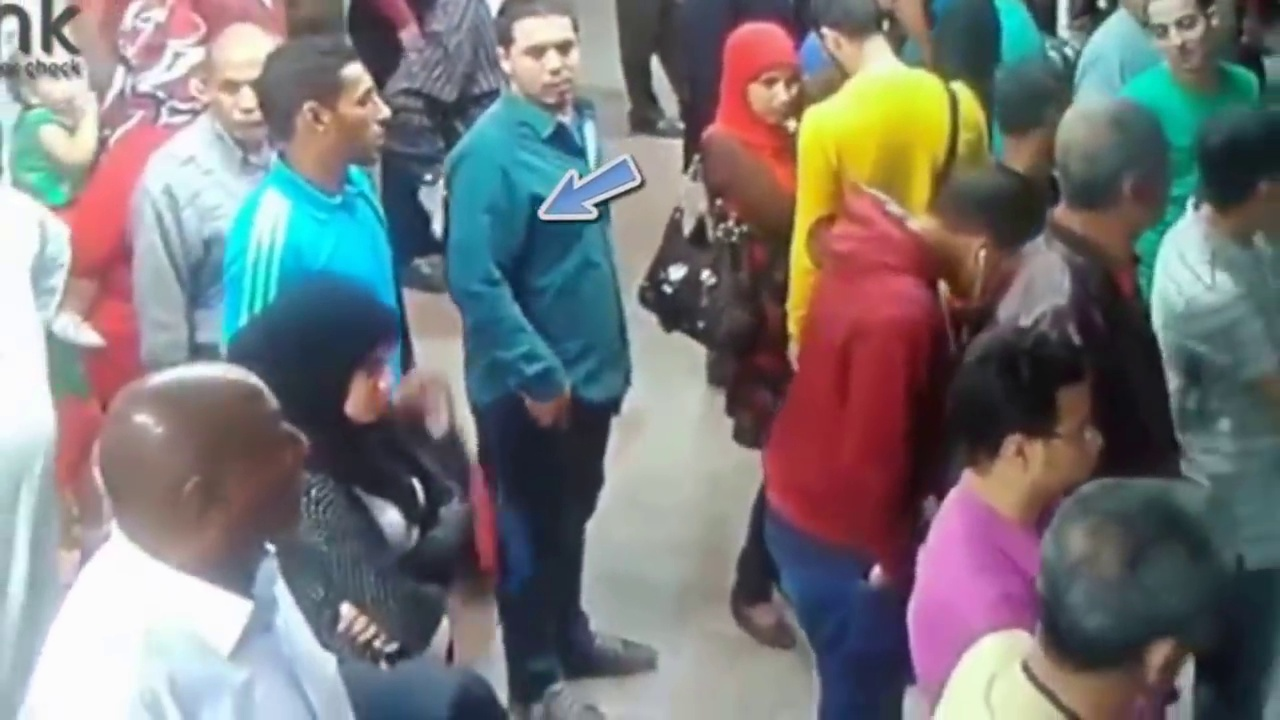face: (220, 391, 312, 537), (332, 71, 396, 166), (1056, 386, 1107, 485), (510, 29, 578, 101), (209, 68, 262, 138), (1152, 3, 1201, 68), (354, 349, 396, 420), (747, 71, 800, 125)
